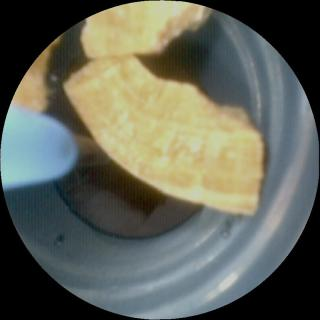fiber: (6, 106, 77, 190)
stone: (64, 6, 263, 215), (14, 40, 58, 110)
